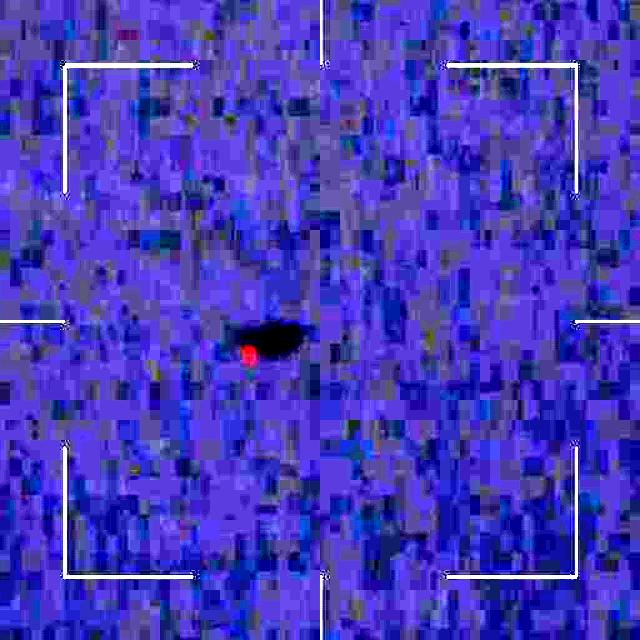bird: (232, 329, 264, 380)
